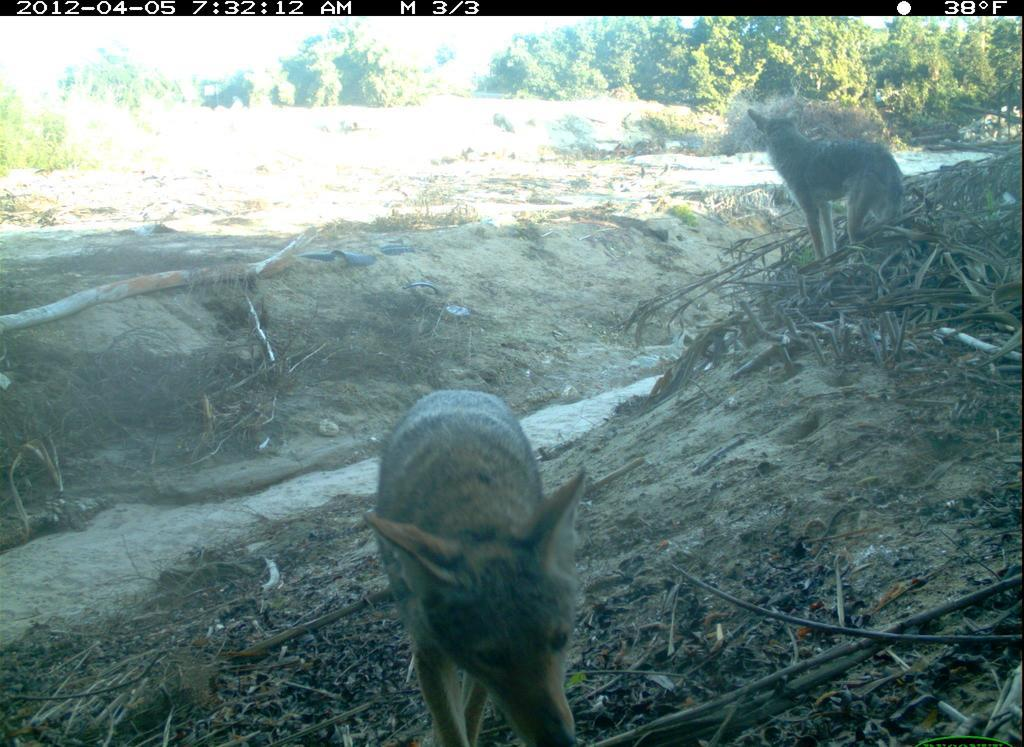coyote: (358, 365, 602, 726), (741, 103, 918, 261)
